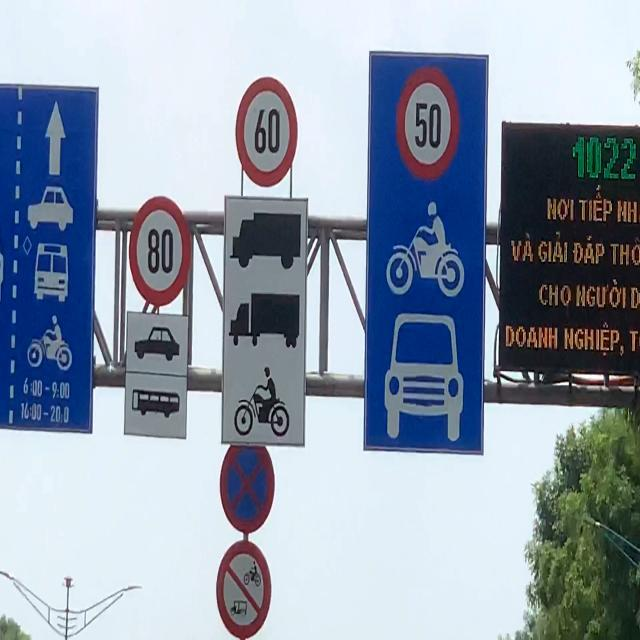Cam dung xe va do xe: (220, 436, 276, 534)
Toc do toi da cho phep: (234, 75, 298, 188), (396, 68, 459, 180), (128, 196, 192, 306)
